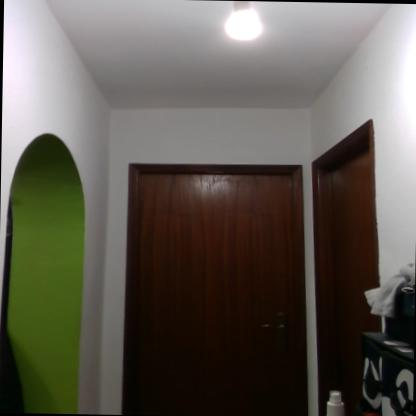closed: (103, 143, 318, 409), (302, 114, 380, 408)
